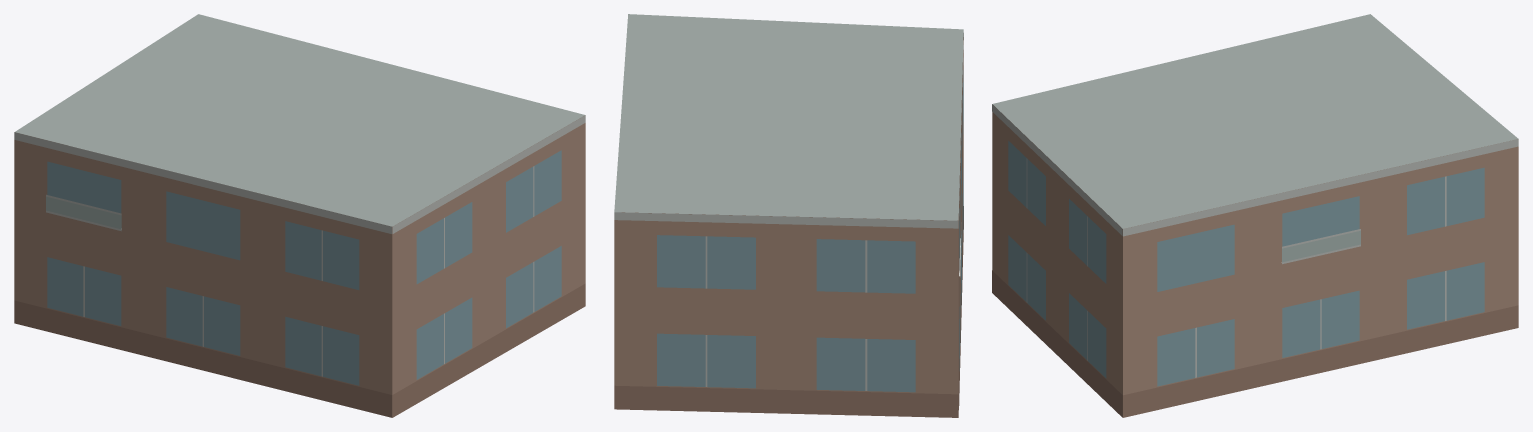
File: survey-upis-32994747.glb
3 views of the same model, side by side, from view 1: azimuth 30°, elevation 25°; view 2: azimuth 150°, elevation 25°; view 3: azimuth 270°, elevation 25° (orthographic). The views are drawn at different scales.
Visible parts, largest first — view 1: survey-upis-32994747.tmp; view 2: survey-upis-32994747.tmp; view 3: survey-upis-32994747.tmp.
Boxes of the visible parts, <box> form: survey-upis-32994747.tmp: <box>14,14,585,417</box>; survey-upis-32994747.tmp: <box>614,14,963,417</box>; survey-upis-32994747.tmp: <box>992,14,1518,417</box>.
Size of the model in its own units: 14.9 by 6.1 by 15.42.
